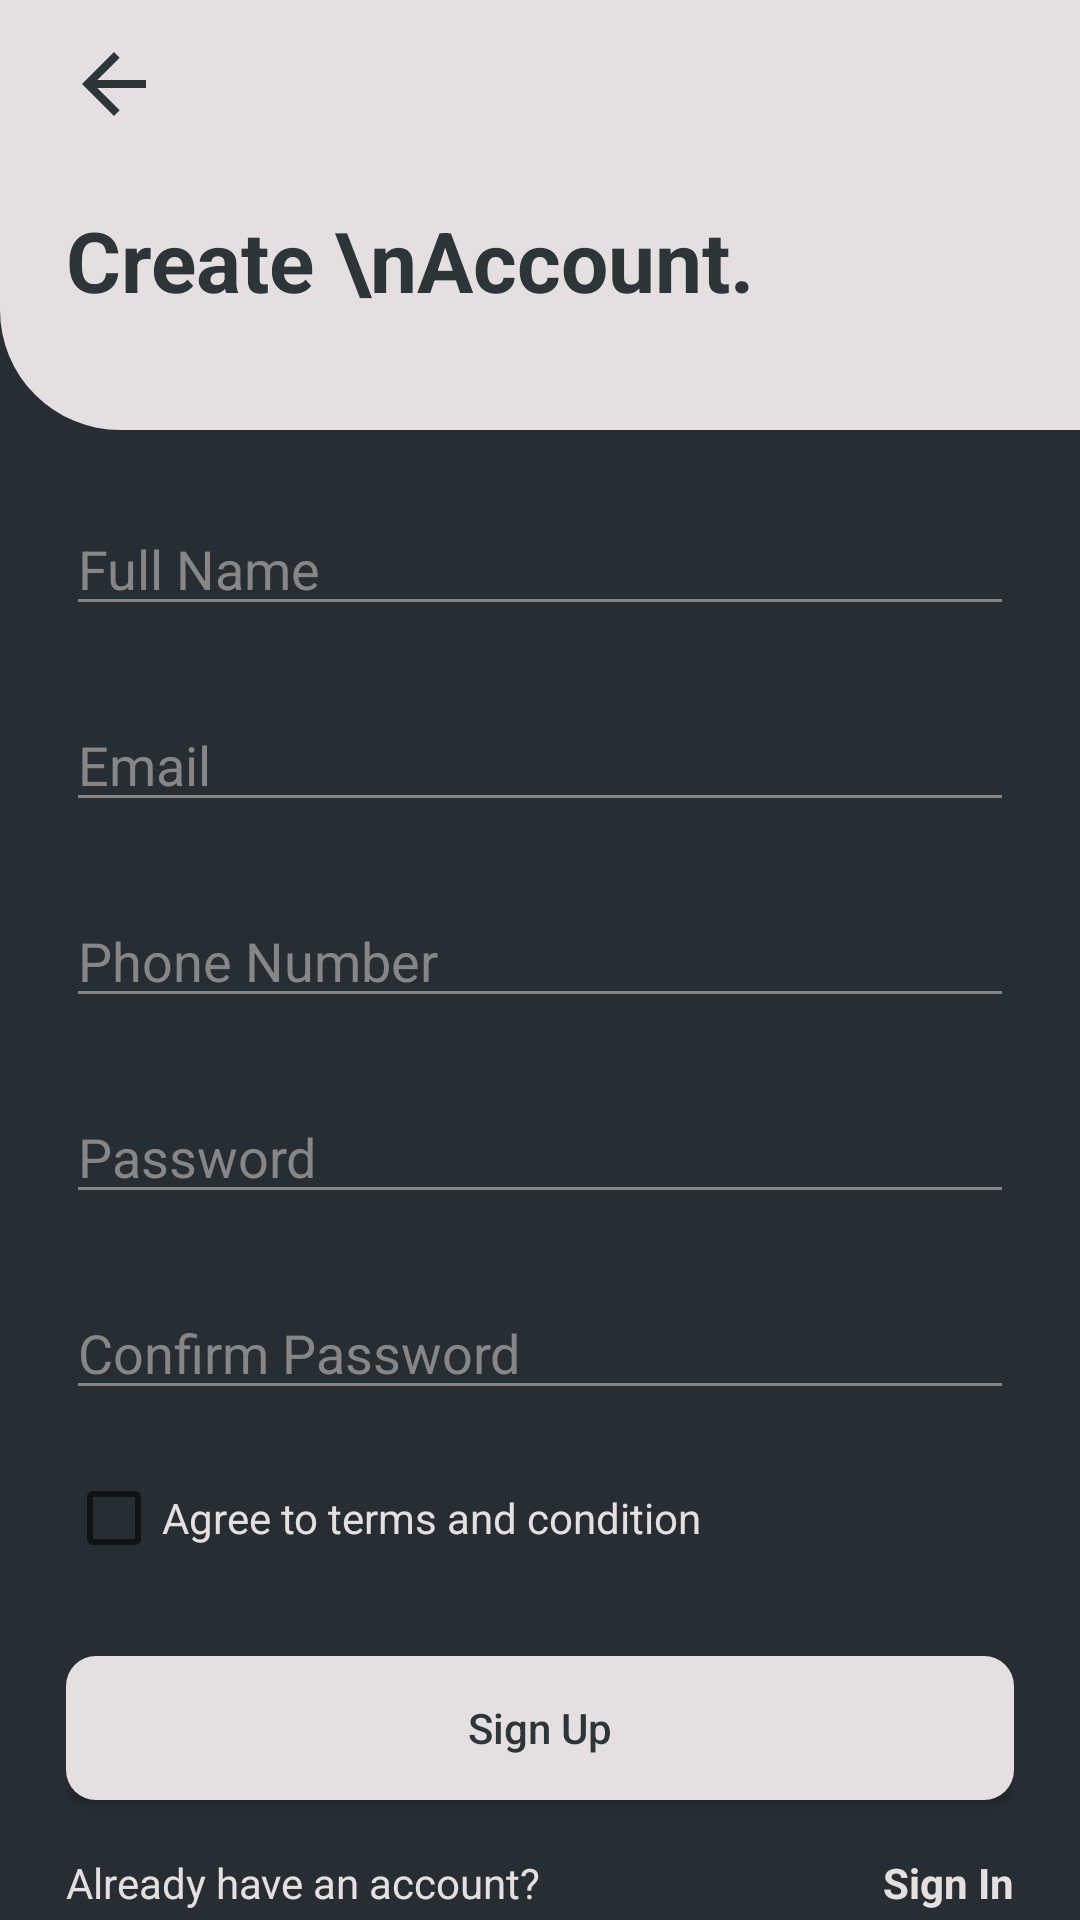

Where to tap for icons on this 1080px x 1920px app screen, as (x,y):
arrow back: (114,84)
